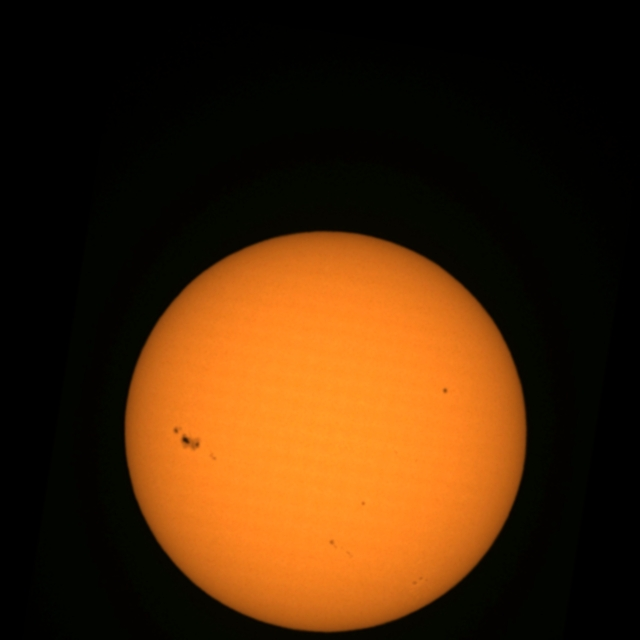sunspot: (172, 425, 202, 452), (328, 538, 354, 559), (328, 538, 340, 550), (412, 576, 426, 586), (208, 451, 218, 462), (441, 386, 449, 396), (393, 448, 400, 456), (360, 500, 367, 507)
